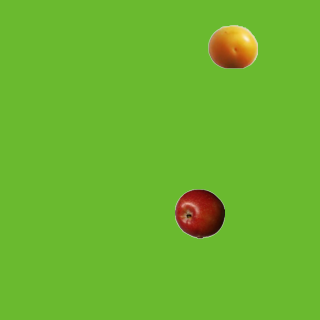Apple Braeburn: (174, 188, 224, 238)
Cherry Wax Yellow: (207, 21, 257, 71)
